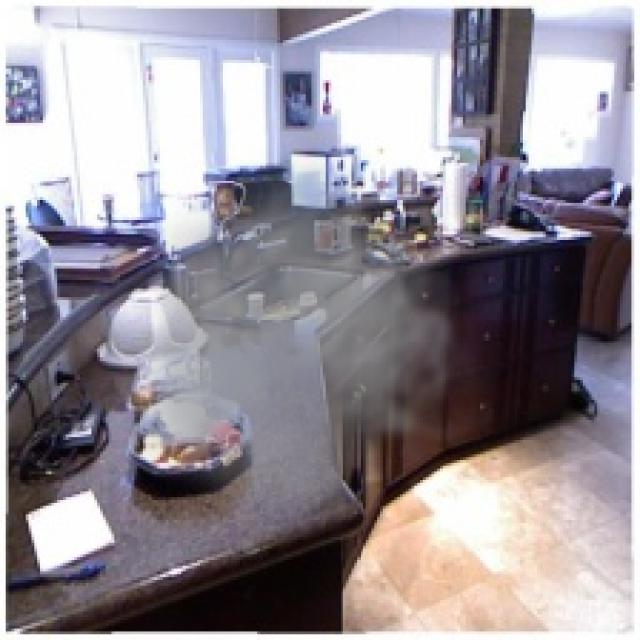smoke: (132, 143, 497, 543)
